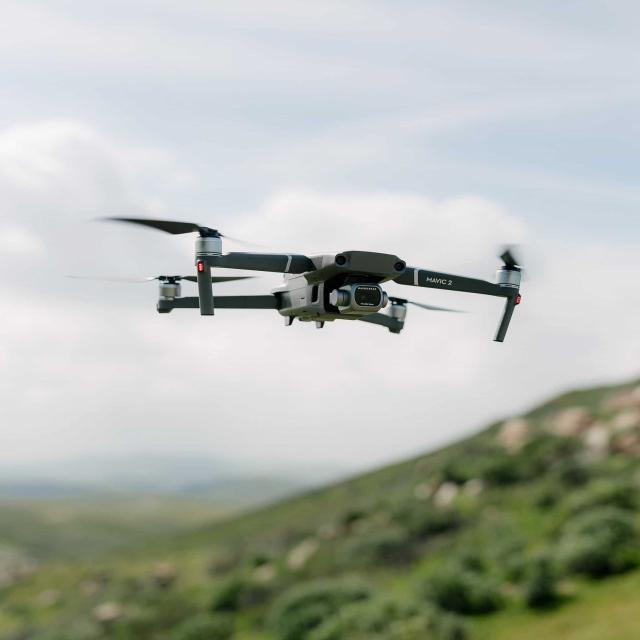drones: (78, 204, 571, 353)
